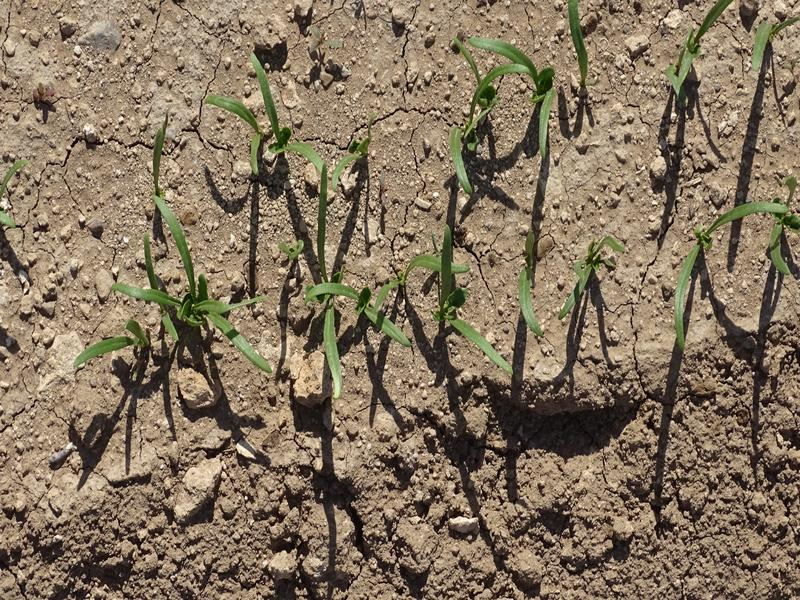Espinaca: (85, 203, 273, 375), (296, 253, 507, 387), (669, 188, 800, 341), (217, 62, 360, 184), (434, 41, 562, 174), (653, 3, 776, 96), (558, 223, 612, 318), (517, 263, 547, 344), (567, 1, 585, 88)
